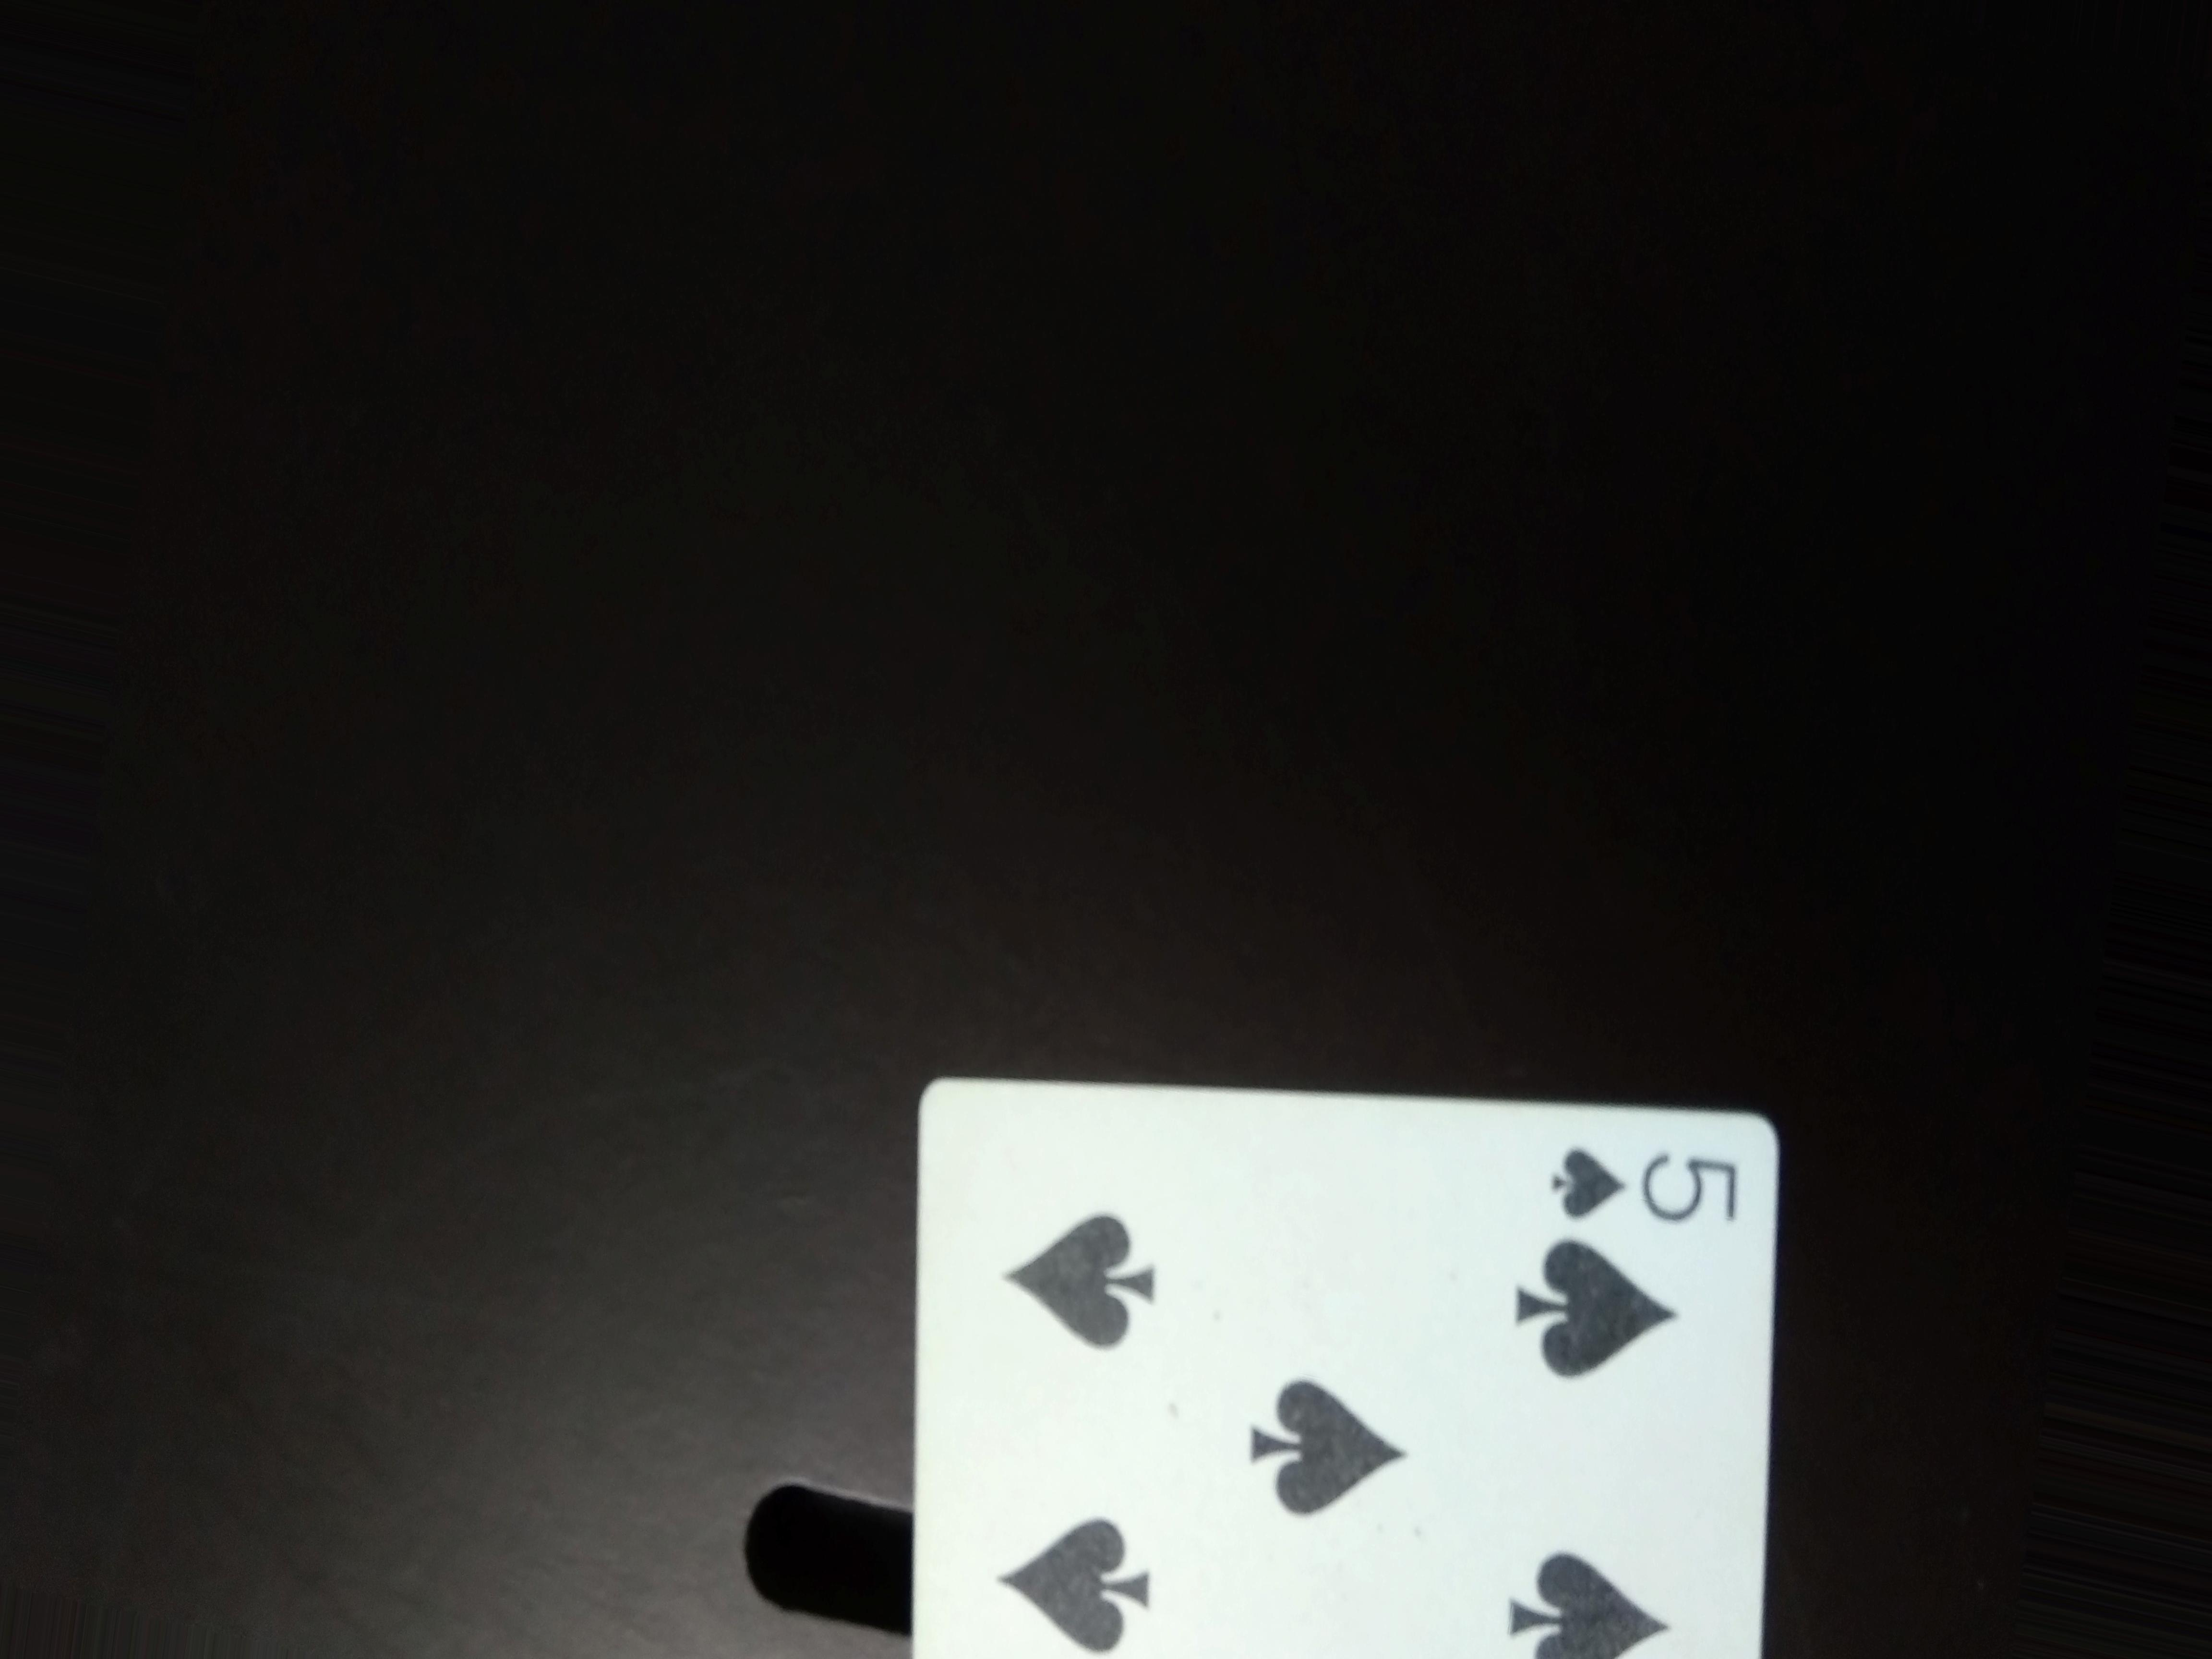5S: (1533, 1121, 1766, 1267)
